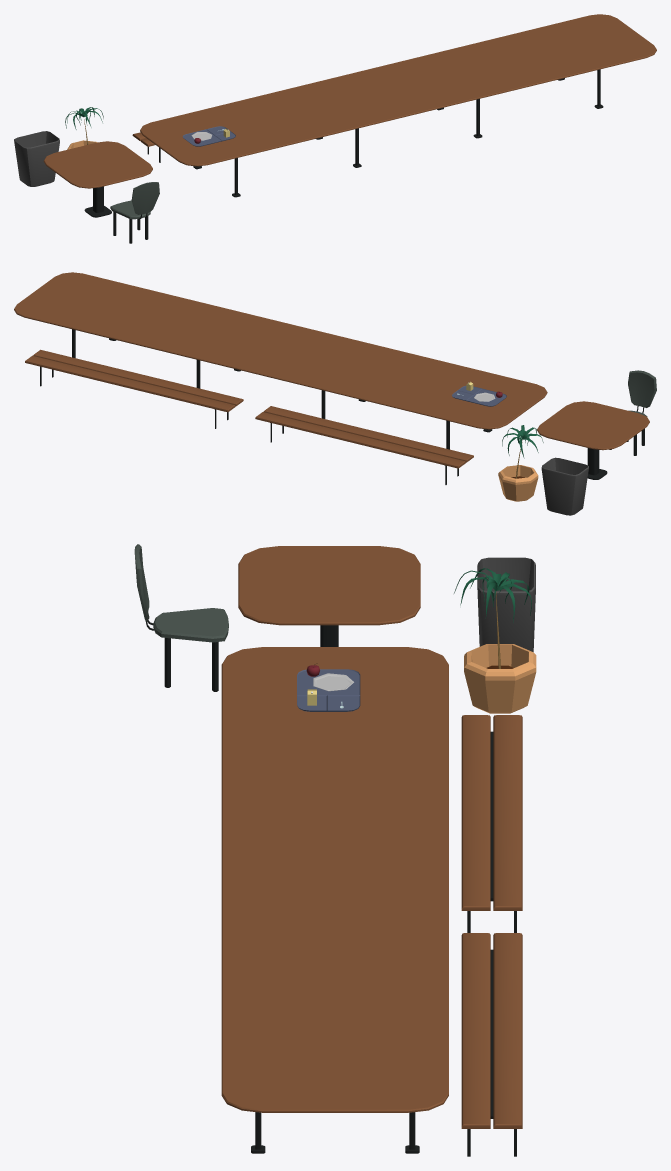
File: low_poly_cafeteria_basic.glb
The picture shows the model from 3 angles, top to bottom: view 1: azimuth 30°, elevation 25°; view 2: azimuth 150°, elevation 25°; view 3: azimuth 270°, elevation 25°; orthographic projection. The views are drawn at different scales.
Parts seen in each view (by area): view 1: Cube.002, Cube, Cube.004, Cylinder.002, Plane, Cube.005; view 2: Cube.002, Cube, Cube.001, Cube.003, Cube.004, Cube.005, Cylinder.002, Plane; view 3: Cube.002, Cube, Cube.003, Cube.001, Cube.005, Cube.004, Cylinder.002, Plane.
Boxes of the visible parts, x1,y1,x2,y2 form: Cube.002: (140, 14, 656, 197); Cube: (43, 141, 152, 217); Cube.004: (14, 131, 59, 186); Cylinder.002: (110, 182, 159, 243); Plane: (182, 126, 235, 146); Cube.005: (65, 107, 103, 149); Cube.002: (14, 272, 547, 449); Cube: (537, 401, 649, 479); Cube.001: (255, 406, 473, 484); Cube.003: (25, 349, 243, 428); Cube.004: (541, 457, 588, 515); Cube.005: (498, 425, 543, 501); Cylinder.002: (609, 370, 656, 455); Plane: (452, 386, 506, 406); Cube.002: (221, 647, 448, 1153); Cube: (238, 546, 420, 646); Cube.003: (461, 933, 522, 1156); Cube.001: (461, 715, 522, 932); Cube.005: (454, 568, 536, 713); Cube.004: (477, 557, 535, 651); Cylinder.002: (134, 544, 228, 691); Plane: (297, 669, 360, 711).
Bounding box in the file's own units: 245 × 26.74 × 73.79.
